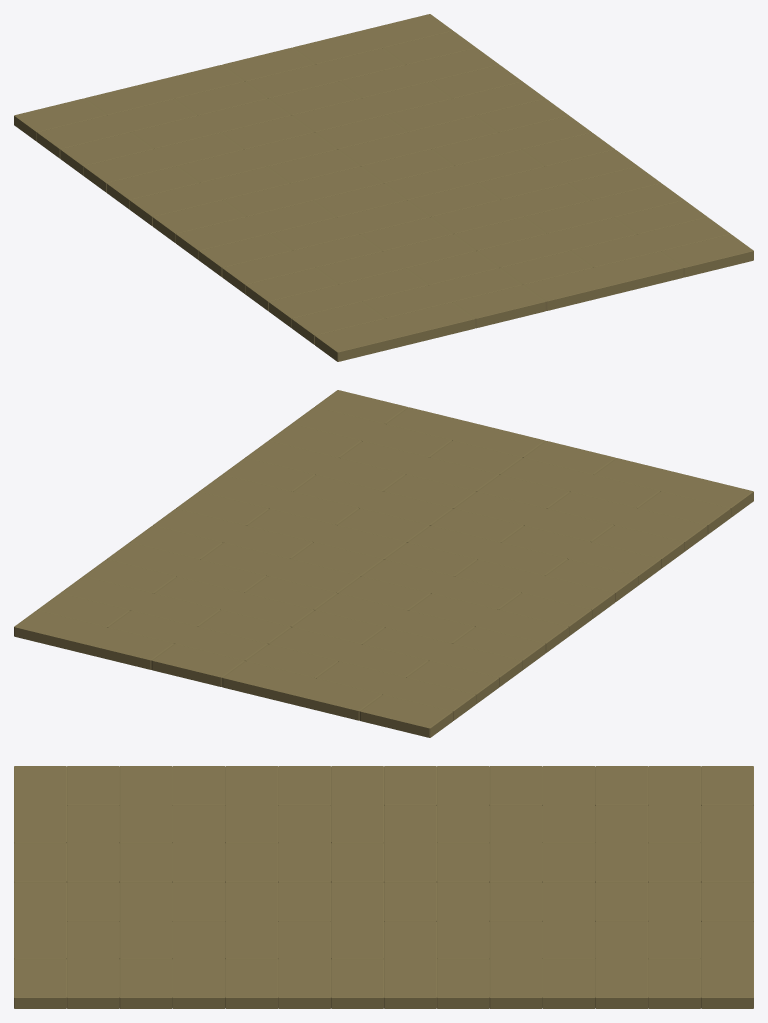
The model's file is floor.fbx.
3 renders of one model, top to bottom at view 1: azimuth 30°, elevation 25°; view 2: azimuth 150°, elevation 25°; view 3: azimuth 270°, elevation 25°, orthographic. The views are drawn at different scales.
Visible parts, largest first — view 1: Plane.007; view 2: Plane.007; view 3: Plane.007.
Part boxes in pixels (box(x1,y1,x2,y2)): Plane.007: box(14, 14, 753, 361); Plane.007: box(14, 390, 753, 737); Plane.007: box(14, 766, 753, 1008).
Bounding box in the file's own units: 4.46 × 0.0996 × 6.
